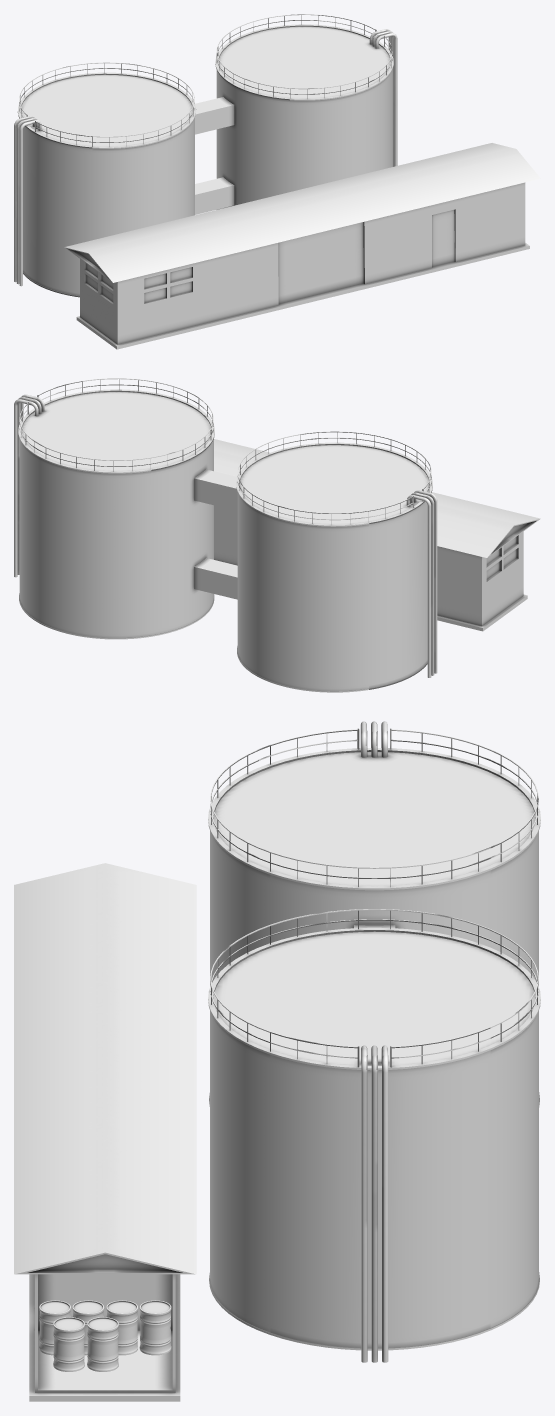
Rendered from FuelStorage.fbx.
3 views of the same model, one above another, from view 1: azimuth 30°, elevation 25°; view 2: azimuth 150°, elevation 25°; view 3: azimuth 270°, elevation 25° (orthographic). The views are drawn at different scales.
Visible parts, largest first — view 1: Fuel_tank, Fuel_storage; view 2: Fuel_tank, Fuel_storage; view 3: Fuel_tank, Fuel_storage, Barrel.005, Barrel.004, Barrel.003, Barrel.002, Barrel.
Boxes of the visible parts, <box> form: Fuel_tank: <box>14,14,397,297</box>; Fuel_storage: <box>64,143,540,349</box>; Fuel_tank: <box>14,378,437,692</box>; Fuel_storage: <box>214,439,540,631</box>; Fuel_tank: <box>208,721,540,1362</box>; Fuel_storage: <box>14,863,196,1401</box>; Barrel.005: <box>87,1317,118,1371</box>; Barrel.004: <box>53,1317,84,1371</box>; Barrel.003: <box>139,1300,171,1355</box>; Barrel.002: <box>106,1300,137,1355</box>; Barrel: <box>39,1300,70,1355</box>.
Bounding box in the file's own units: 2.63 × 0.9519 × 1.5.
